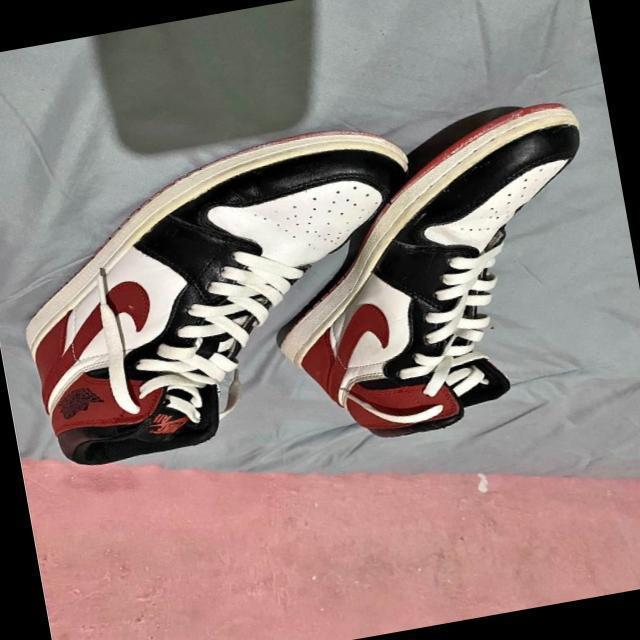nike fake jordan 1: (0, 116, 448, 478), (240, 94, 630, 458)
